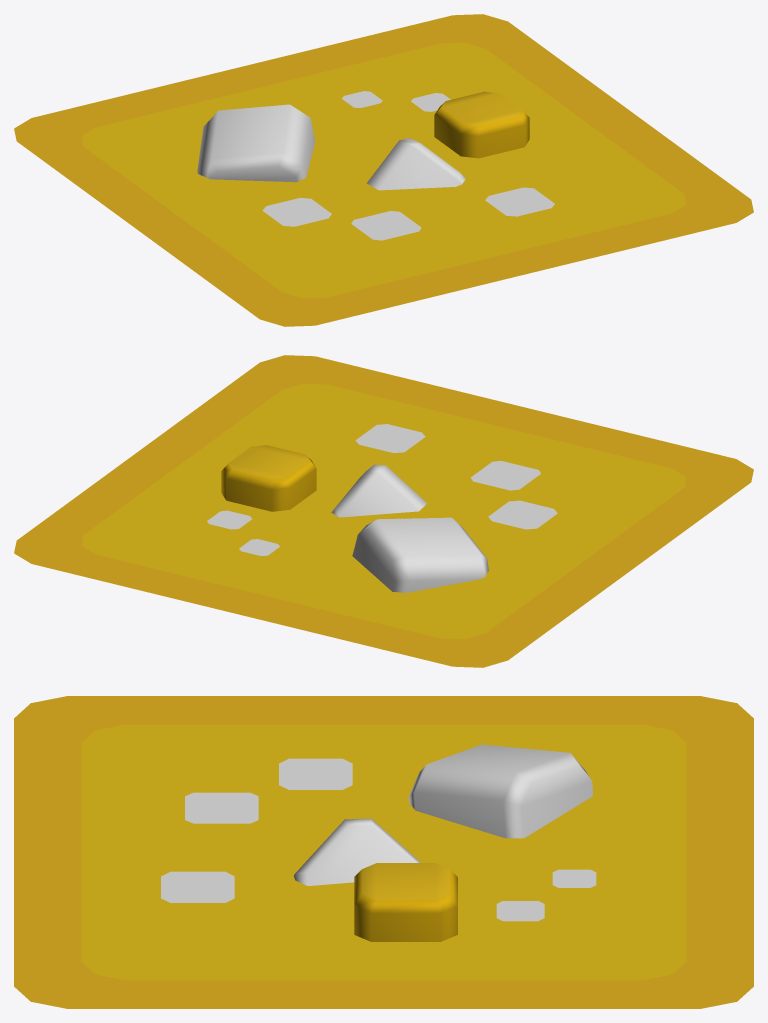
File: BC_cookrecipe_10.fbx
3 views of the same model, one above another, from view 1: azimuth 30°, elevation 25°; view 2: azimuth 150°, elevation 25°; view 3: azimuth 270°, elevation 25° (orthographic). The views are drawn at different scales.
Parts seen in each view (by area): view 1: base, cube2, cube1, cube3, boko4, boko2, boko1; view 2: base, cube2, cube1, cube3, boko4, boko2, boko1, boko8; view 3: base, cube2, cube1, cube3, boko4, boko2, boko1, boko8, boko7.
Part boxes in pixels (<box>): base: <box>14,14,753,326</box>; cube2: <box>197,104,315,182</box>; cube1: <box>434,91,529,158</box>; cube3: <box>366,138,465,190</box>; boko4: <box>351,211,421,240</box>; boko2: <box>485,187,554,216</box>; boko1: <box>262,197,331,226</box>; base: <box>14,355,753,667</box>; cube2: <box>352,517,488,592</box>; cube1: <box>221,445,316,511</box>; cube3: <box>331,464,427,517</box>; boko4: <box>470,461,540,490</box>; boko2: <box>356,424,425,452</box>; boko1: <box>488,500,557,529</box>; boko8: <box>207,510,251,529</box>; base: <box>14,696,753,1008</box>; cube2: <box>409,744,593,838</box>; cube1: <box>354,863,457,941</box>; cube3: <box>294,818,420,885</box>; boko4: <box>185,792,258,823</box>; boko2: <box>161,871,234,902</box>; boko1: <box>279,758,352,789</box>; boko8: <box>496,901,544,921</box>; boko7: <box>552,869,596,887</box>.
Size of the model in its own units: 3.5 by 0.8223 by 3.5.
